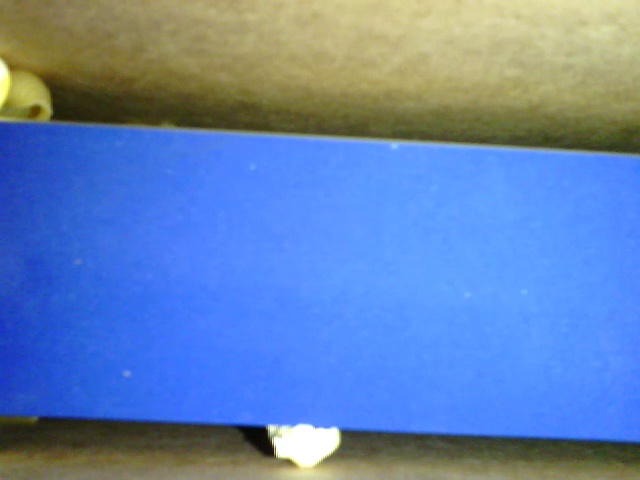shell: (5, 67, 59, 122)
